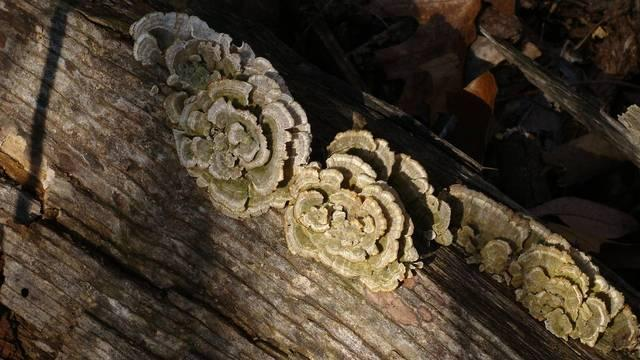poisonous_mushroom: (128, 10, 313, 221), (455, 188, 635, 354), (281, 122, 452, 293)
